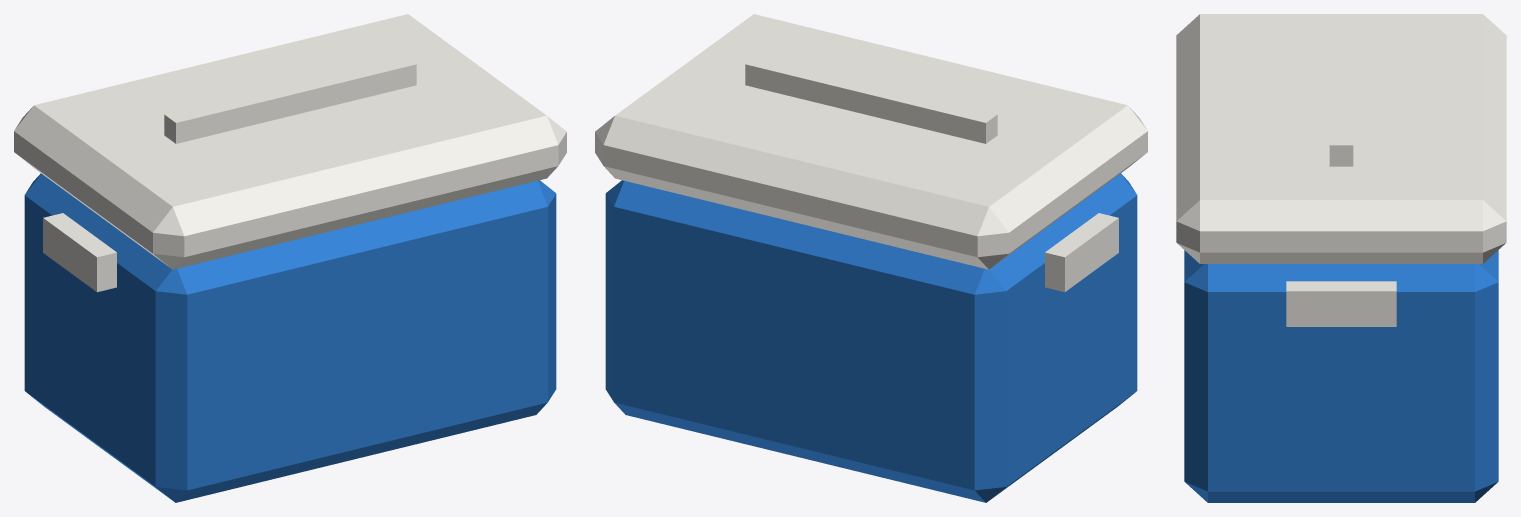
The model's file is cooler.glb.
The picture shows the model from 3 angles, left to right: view 1: azimuth 30°, elevation 25°; view 2: azimuth 150°, elevation 25°; view 3: azimuth 270°, elevation 25°; orthographic projection.
Visible parts, largest first — view 1: cooler; view 2: cooler; view 3: cooler.
Boxes of the visible parts, bbox=[...] form: cooler: bbox=[14, 14, 566, 502]; cooler: bbox=[595, 14, 1147, 502]; cooler: bbox=[1176, 14, 1506, 502].
Size of the model in its own units: 0.66 by 0.46 by 0.42.
